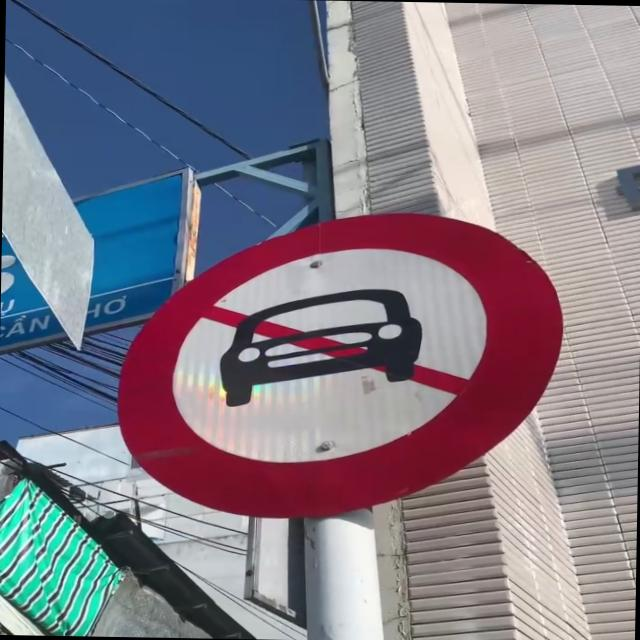Cam_O_To: (114, 198, 572, 532)
